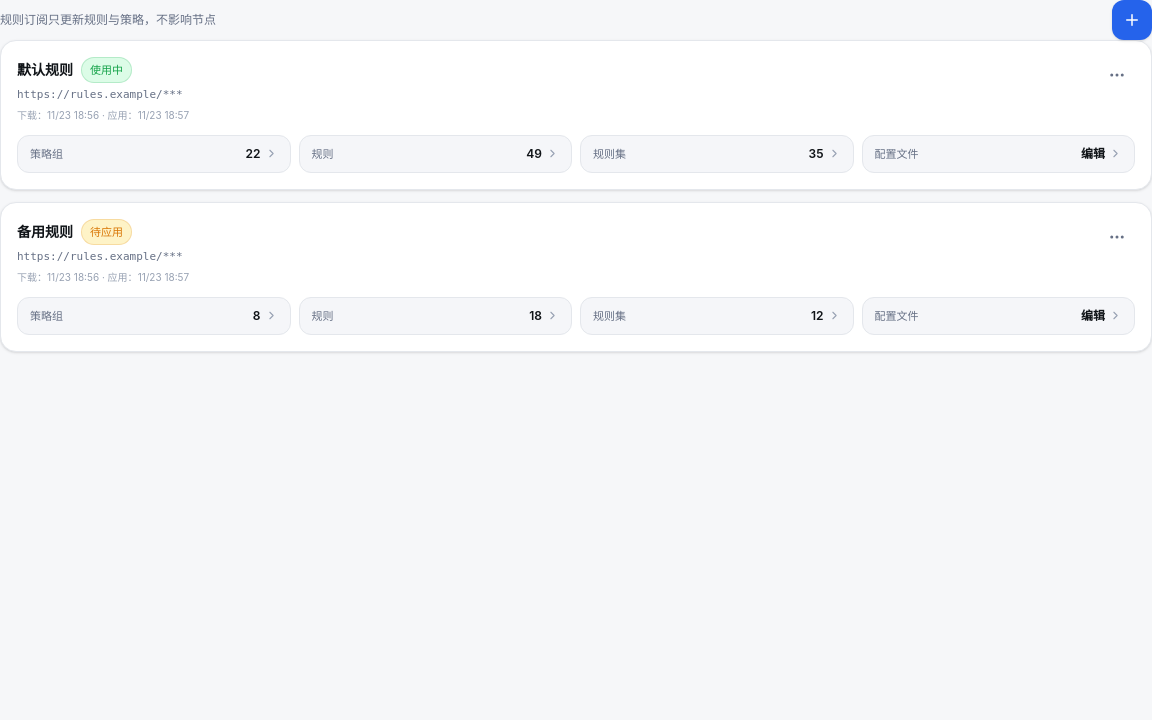
it: RuleProfileList › applies a specified profile from an existing pending snapshot
Later steps or results of the test are not shown.
Expected: the heading "默认规则" is shown, top-left (17, 60), bottom-right (73, 80)
Expected: the text "使用中" is shown, top-left (81, 57), bottom-right (132, 83)
Click the button named "更多操作" in the row of "待应用": (1117, 237) top-left (1099, 219), bottom-right (1135, 255)
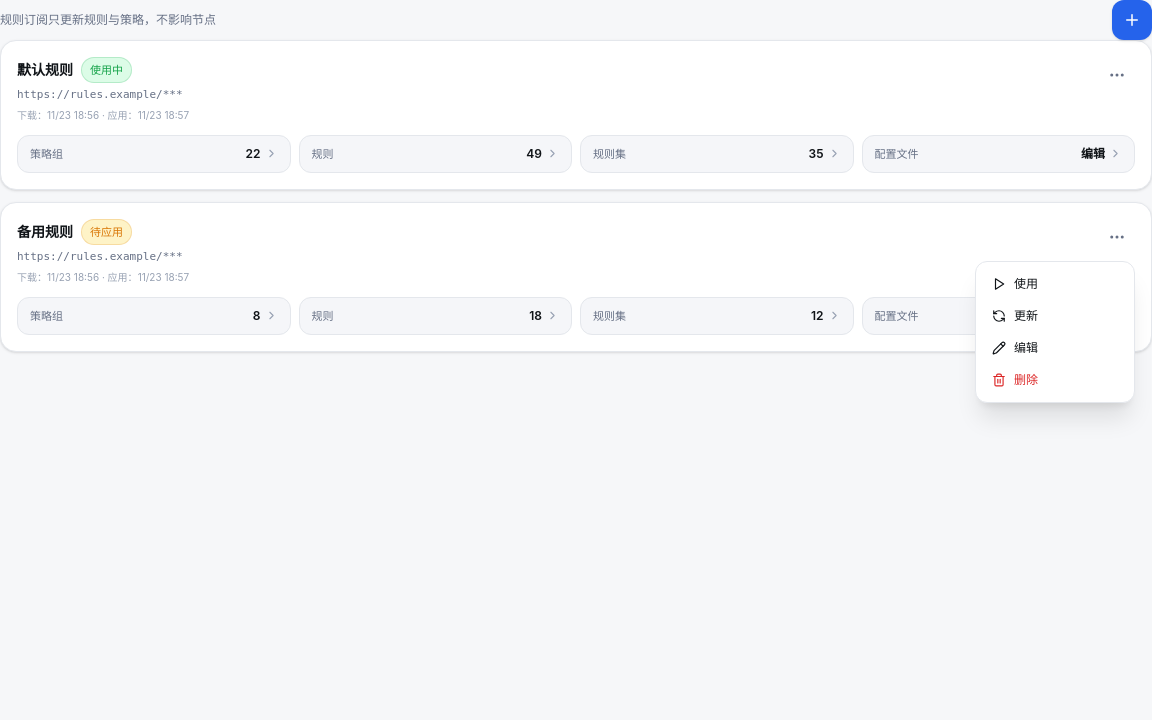
Click the menu item "使用": (1015, 284) top-left (992, 276), bottom-right (1038, 291)
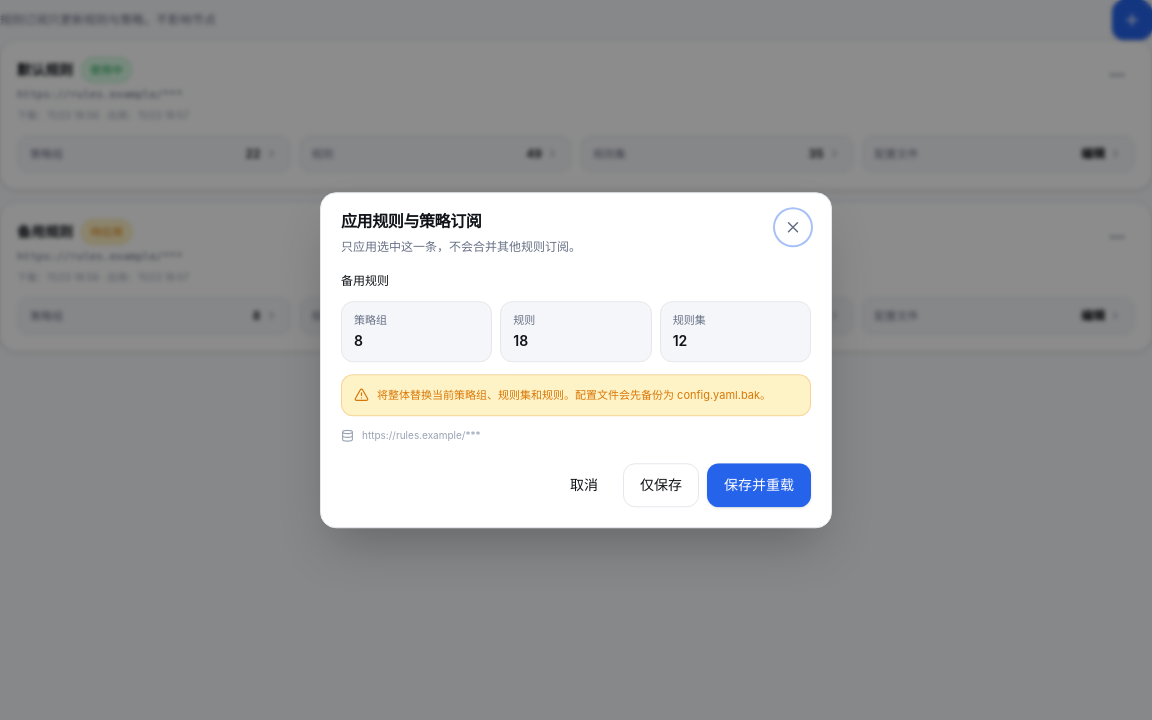
Expected: the heading "应用规则与策略订阅" is shown, top-left (341, 211), bottom-right (481, 231)
